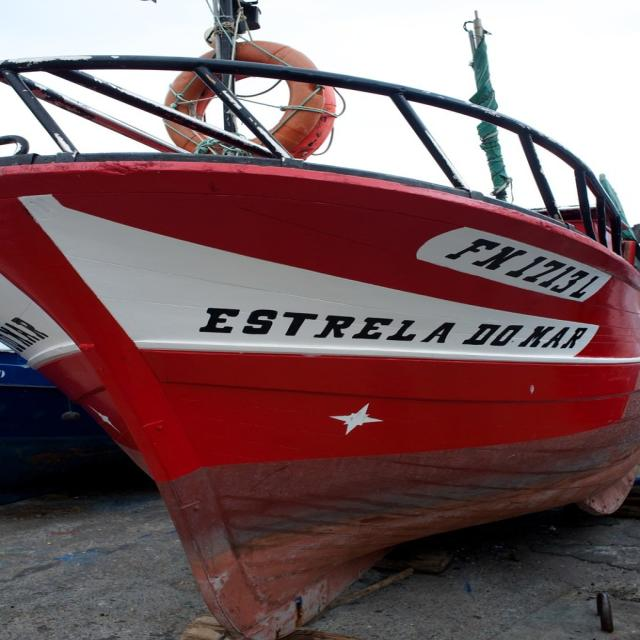Boat: (12, 0, 620, 607)
